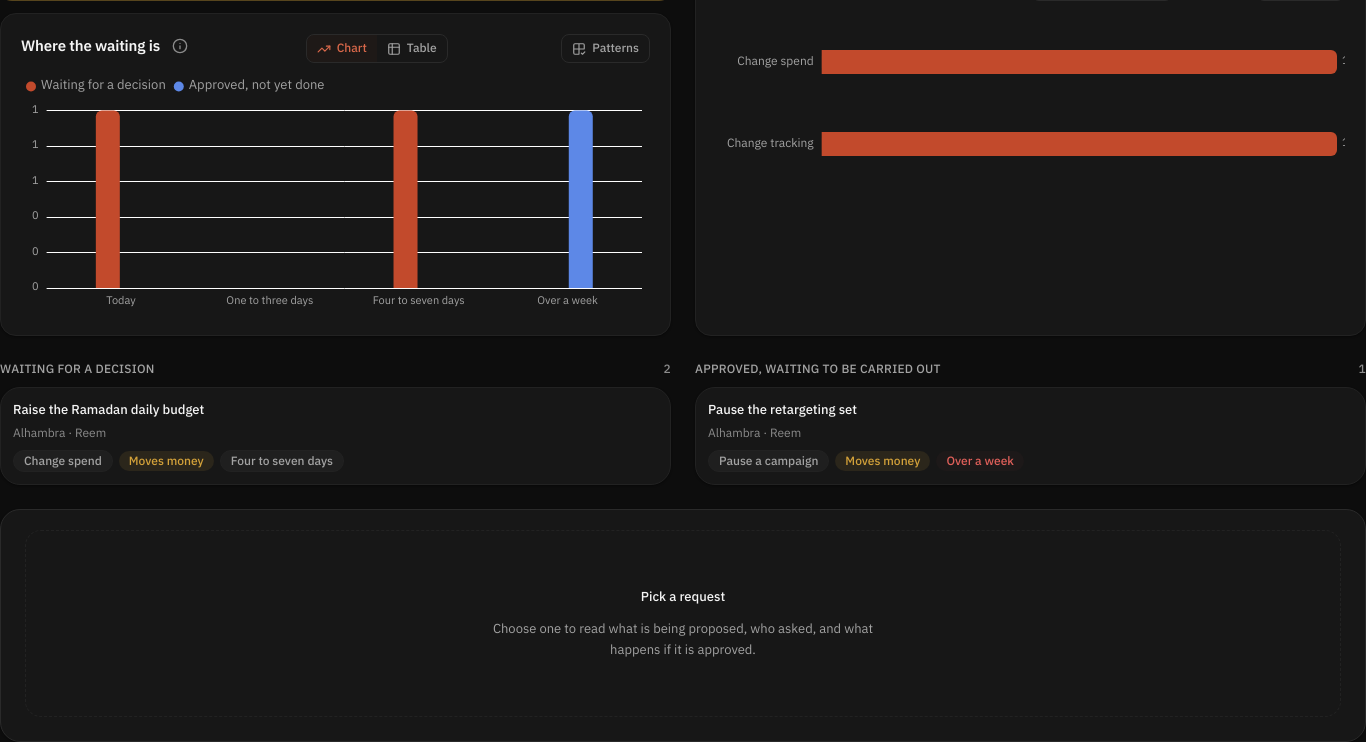
Test: a request › says on the request that approving it will not make the change
(page scrolled)
Click the button "Raise the Ramadan daily budget".
click(109, 409)  # box [0,387,671,485]
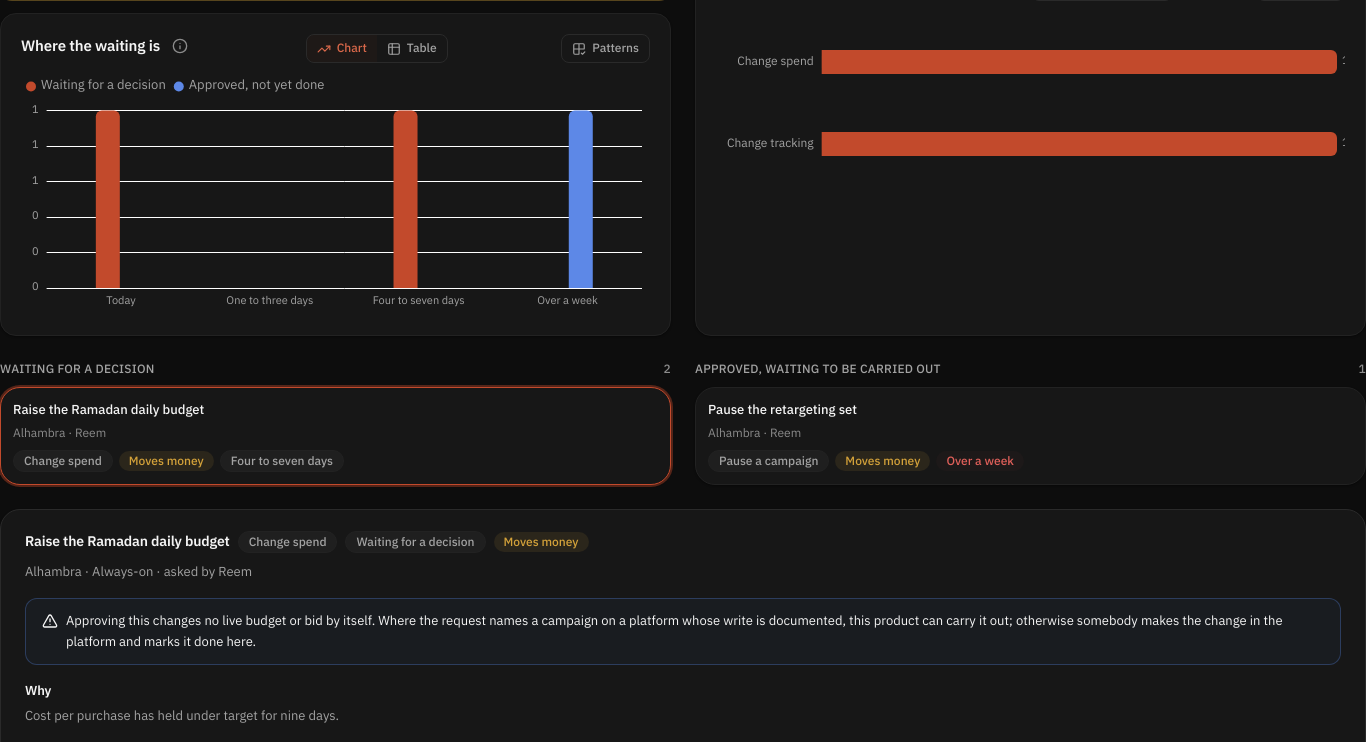
Expected: the text "changes no live budget or bid by itself" is shown, [66,611,1282,650]
